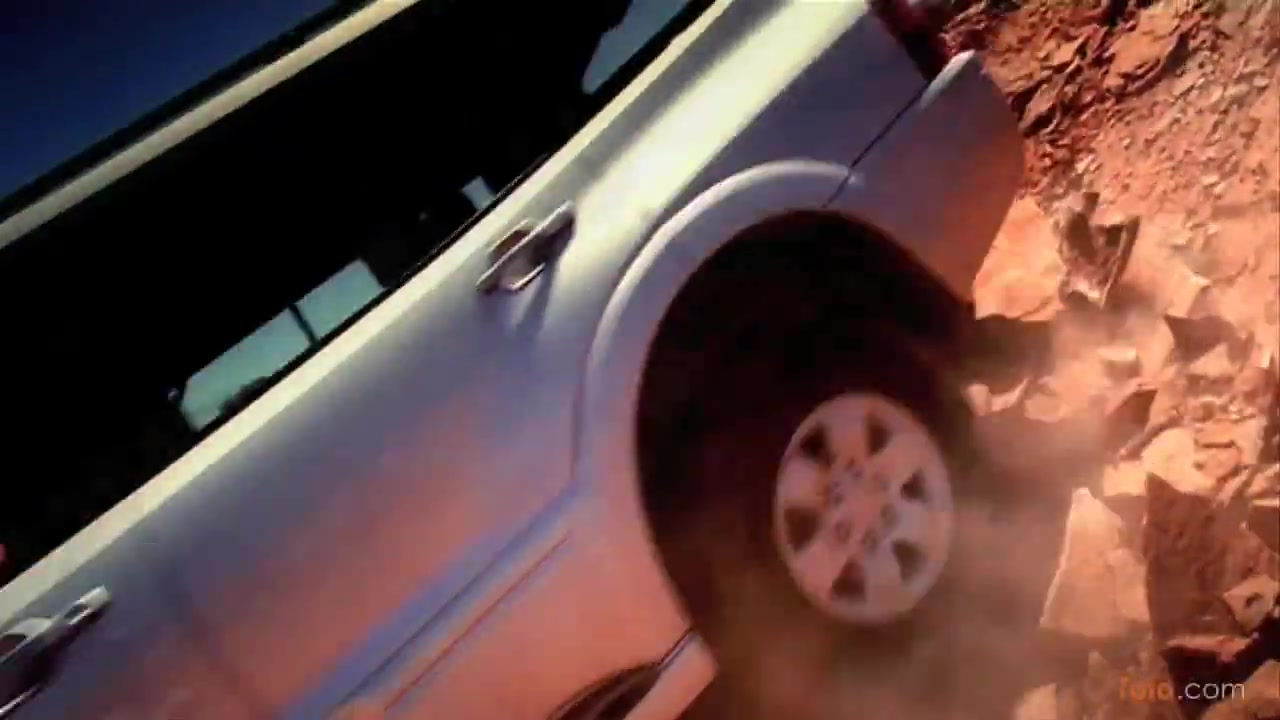car: (1, 2, 1034, 720)
